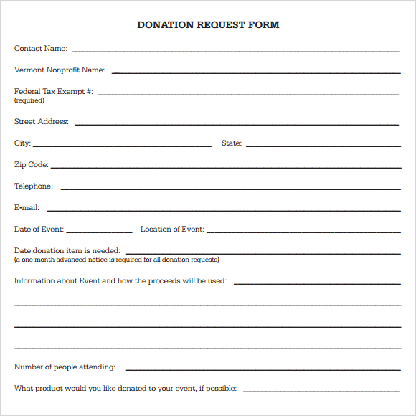textline: (73, 103, 402, 128), (11, 333, 405, 352), (11, 289, 403, 308), (11, 312, 404, 330), (45, 197, 403, 214), (49, 153, 402, 170), (95, 80, 404, 99), (58, 176, 402, 193), (70, 39, 402, 55), (110, 60, 405, 77), (123, 356, 406, 373), (123, 240, 402, 257), (204, 217, 403, 237), (240, 376, 405, 394), (31, 133, 214, 149), (232, 269, 403, 286), (244, 132, 403, 149), (62, 221, 136, 236)
